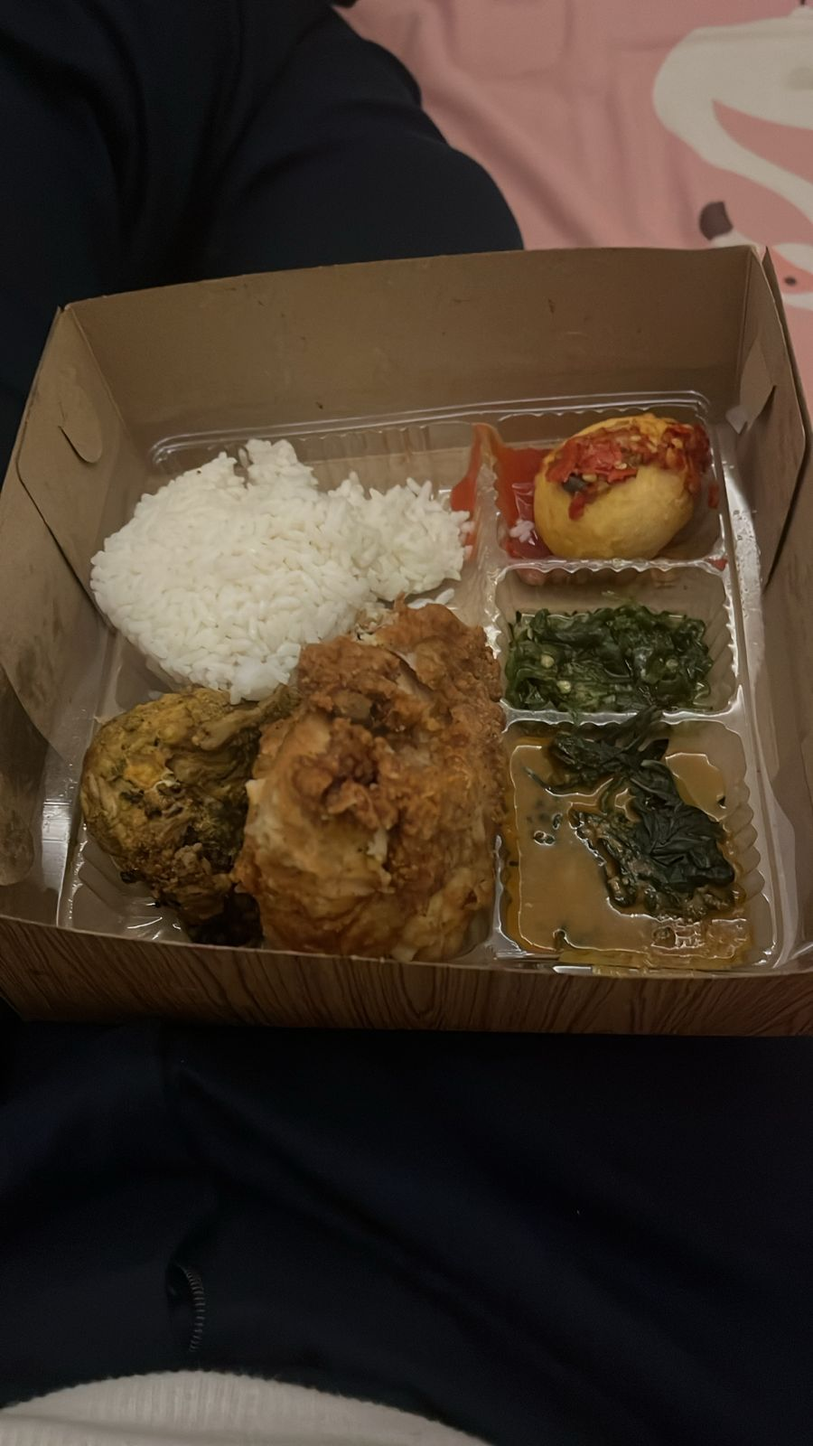buah_sayur_lainnya: (519, 591, 764, 929)
daging: (105, 683, 502, 971)
makanan_berpati: (108, 443, 432, 636)
